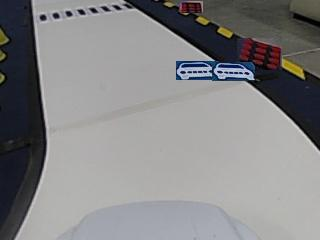crosswalk: (34, 4, 137, 21)
